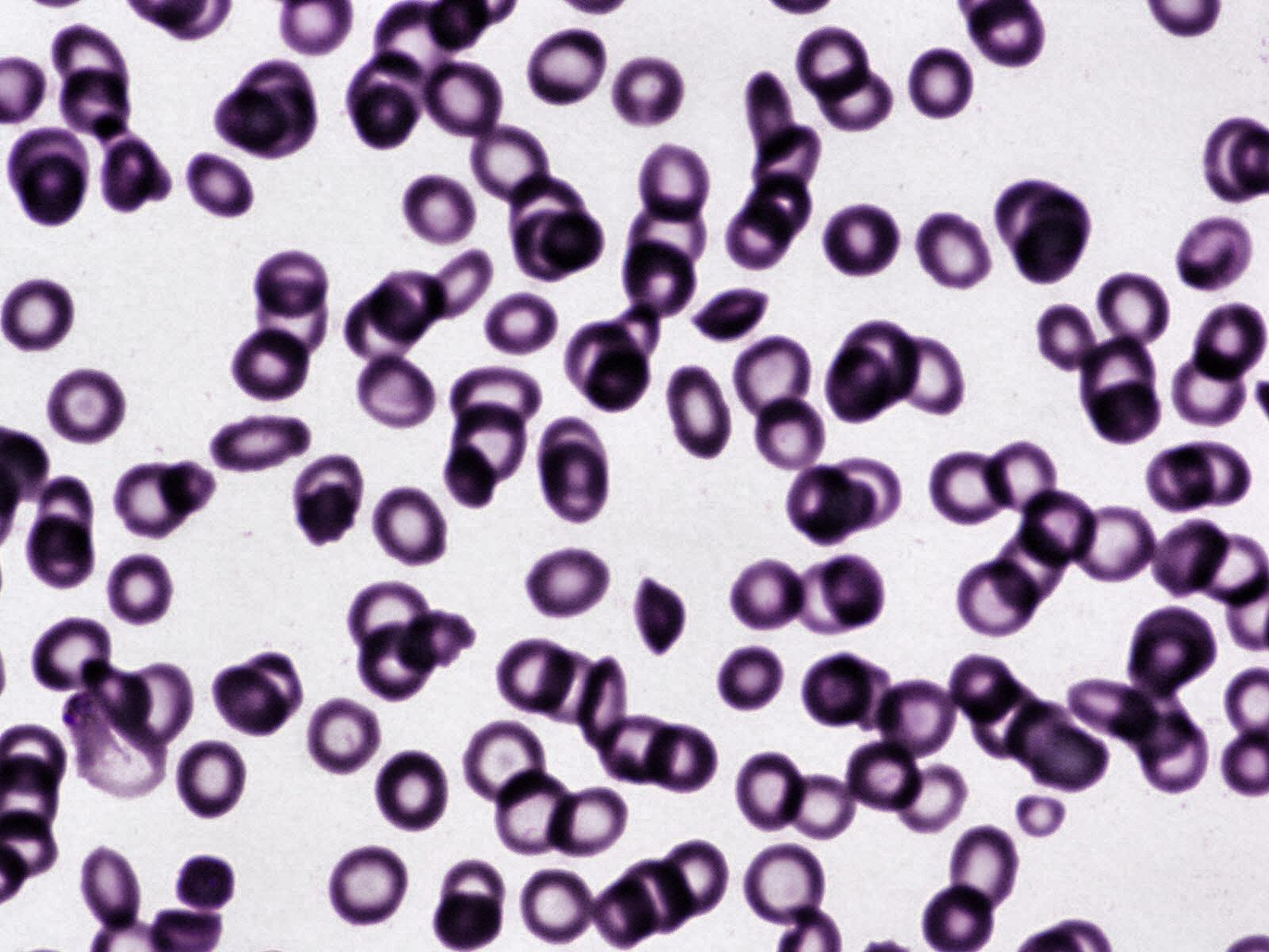Uninfected: (461, 717, 550, 812), (1064, 501, 1160, 587), (730, 334, 815, 429), (872, 675, 960, 765), (237, 60, 317, 158), (792, 23, 878, 113), (941, 823, 1020, 920), (466, 117, 553, 205), (1015, 487, 1101, 574), (839, 320, 923, 408), (377, 2, 461, 90), (496, 770, 585, 853), (661, 363, 736, 461), (1133, 603, 1220, 687), (327, 844, 410, 932), (1082, 335, 1160, 428), (418, 57, 504, 141), (32, 613, 116, 699), (928, 448, 1017, 529), (539, 782, 629, 862), (1143, 513, 1228, 597), (369, 483, 451, 570), (449, 367, 539, 446), (371, 747, 451, 835), (117, 665, 197, 753), (349, 584, 438, 662), (1190, 299, 1268, 388), (208, 413, 314, 478), (519, 865, 600, 950), (564, 316, 644, 402), (231, 323, 314, 405), (356, 350, 438, 433), (843, 735, 926, 817), (622, 239, 704, 322), (524, 545, 610, 624), (891, 334, 966, 424), (44, 366, 126, 448), (751, 390, 830, 475), (742, 843, 823, 925), (346, 48, 427, 130), (819, 199, 900, 280), (9, 125, 90, 206), (1168, 217, 1252, 295), (520, 28, 605, 105), (1114, 681, 1196, 760), (304, 693, 379, 779), (629, 196, 711, 274), (910, 213, 990, 292), (957, 559, 1039, 636), (888, 763, 971, 839), (174, 735, 249, 819), (729, 558, 810, 635), (355, 624, 437, 700), (994, 529, 1069, 612), (608, 52, 685, 132), (344, 290, 424, 367), (247, 248, 328, 324), (254, 278, 330, 359), (454, 401, 526, 486), (983, 439, 1059, 519), (973, 678, 1049, 758), (477, 284, 558, 359), (0, 274, 75, 355), (75, 843, 141, 935), (1171, 352, 1252, 426), (370, 268, 448, 344), (398, 173, 477, 248), (997, 179, 1069, 261), (505, 210, 588, 281), (497, 639, 582, 708), (114, 464, 194, 537), (736, 750, 807, 832), (819, 460, 902, 530), (51, 22, 125, 100), (103, 550, 176, 629), (787, 464, 860, 543), (658, 838, 729, 919), (1139, 716, 1211, 795), (901, 45, 975, 121), (796, 559, 872, 633), (1190, 532, 1267, 605), (640, 140, 709, 221), (1028, 724, 1111, 791), (801, 651, 874, 727), (27, 513, 100, 589), (58, 67, 132, 141), (752, 125, 824, 201), (593, 716, 677, 781), (539, 416, 608, 495), (419, 248, 489, 324), (544, 441, 608, 524), (1068, 680, 1158, 739), (745, 69, 801, 163), (711, 645, 784, 717), (815, 67, 897, 131), (625, 859, 698, 930), (213, 666, 286, 736), (535, 647, 605, 720), (1097, 274, 1167, 346), (825, 348, 895, 420), (643, 725, 716, 794), (1171, 443, 1252, 505), (1091, 378, 1160, 450), (293, 453, 362, 524), (397, 611, 478, 670), (212, 90, 290, 151), (1147, 446, 1217, 513), (783, 774, 855, 839), (688, 284, 769, 341), (1015, 212, 1079, 283), (22, 156, 85, 228), (506, 174, 584, 232), (818, 557, 885, 624), (352, 80, 417, 149), (745, 175, 816, 238), (185, 154, 255, 217), (441, 858, 504, 928), (578, 654, 625, 747), (952, 653, 1017, 720), (591, 879, 654, 948), (40, 474, 92, 557), (1006, 700, 1072, 765), (634, 577, 687, 657), (1025, 190, 1093, 252), (1037, 303, 1095, 374), (588, 348, 651, 412), (729, 206, 790, 272), (433, 894, 504, 950), (102, 140, 156, 213), (542, 212, 608, 271), (176, 854, 238, 916), (240, 653, 301, 716), (299, 482, 355, 546), (446, 444, 496, 508), (156, 461, 216, 511), (1015, 793, 1070, 838)
